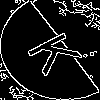K: (25, 25, 93, 77)
